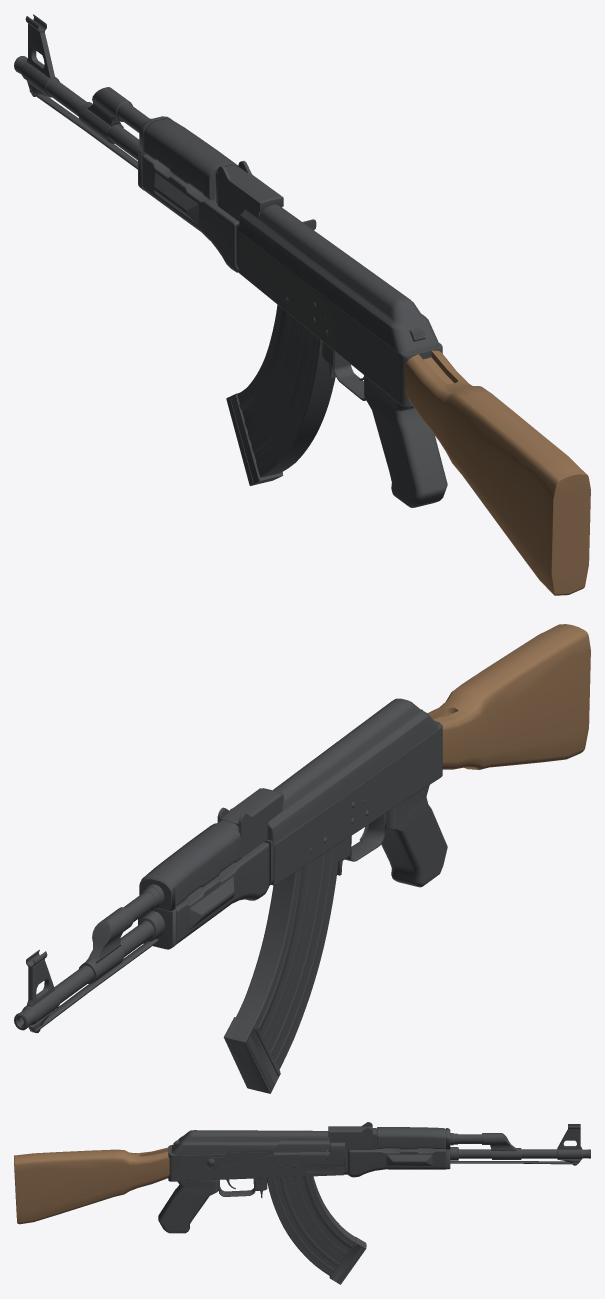
3 views of the same model, one above another, from view 1: azimuth 30°, elevation 25°; view 2: azimuth 150°, elevation 25°; view 3: azimuth 270°, elevation 25° (orthographic). The views are drawn at different scales.
Visible parts, largest first — view 1: AKBODY, AKSTOCK, AKMAG; view 2: AKBODY, AKSTOCK, AKMAG; view 3: AKBODY, AKSTOCK, AKMAG, AKBOLT.
Part boxes in pixels (x1,y1,x2,y2): AKBODY: [14, 14, 447, 507]; AKSTOCK: [405, 350, 590, 595]; AKMAG: [226, 304, 335, 485]; AKBODY: [14, 698, 447, 1032]; AKSTOCK: [427, 624, 590, 769]; AKMAG: [223, 843, 340, 1093]; AKBODY: [158, 1122, 590, 1233]; AKSTOCK: [14, 1147, 169, 1224]; AKMAG: [266, 1176, 366, 1284]; AKBOLT: [274, 1139, 330, 1159].
Size of the model in its own units: 0.0605 by 0.2603 by 0.8674.
